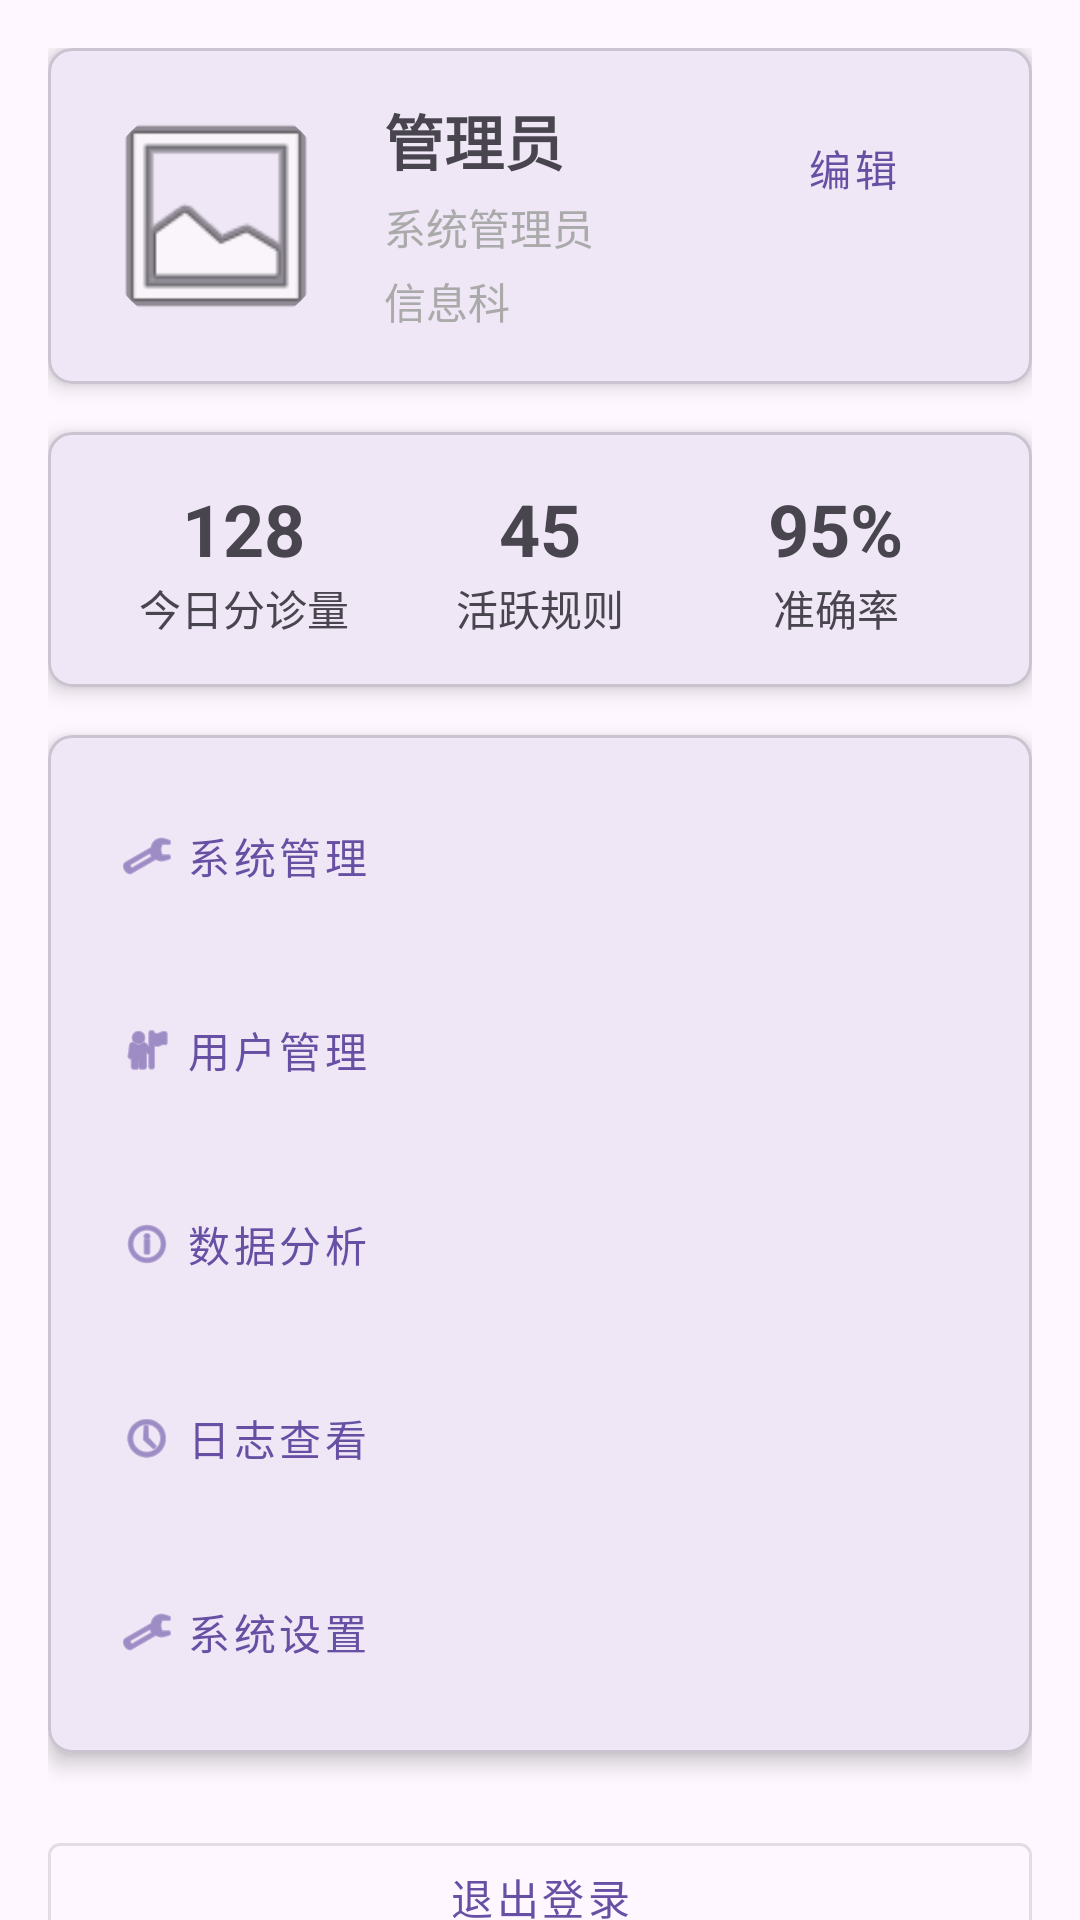

Named icons in this screenshot (1080 × 1920) and their centers, (x=x, y=y):
gallery: (x=216, y=216)
